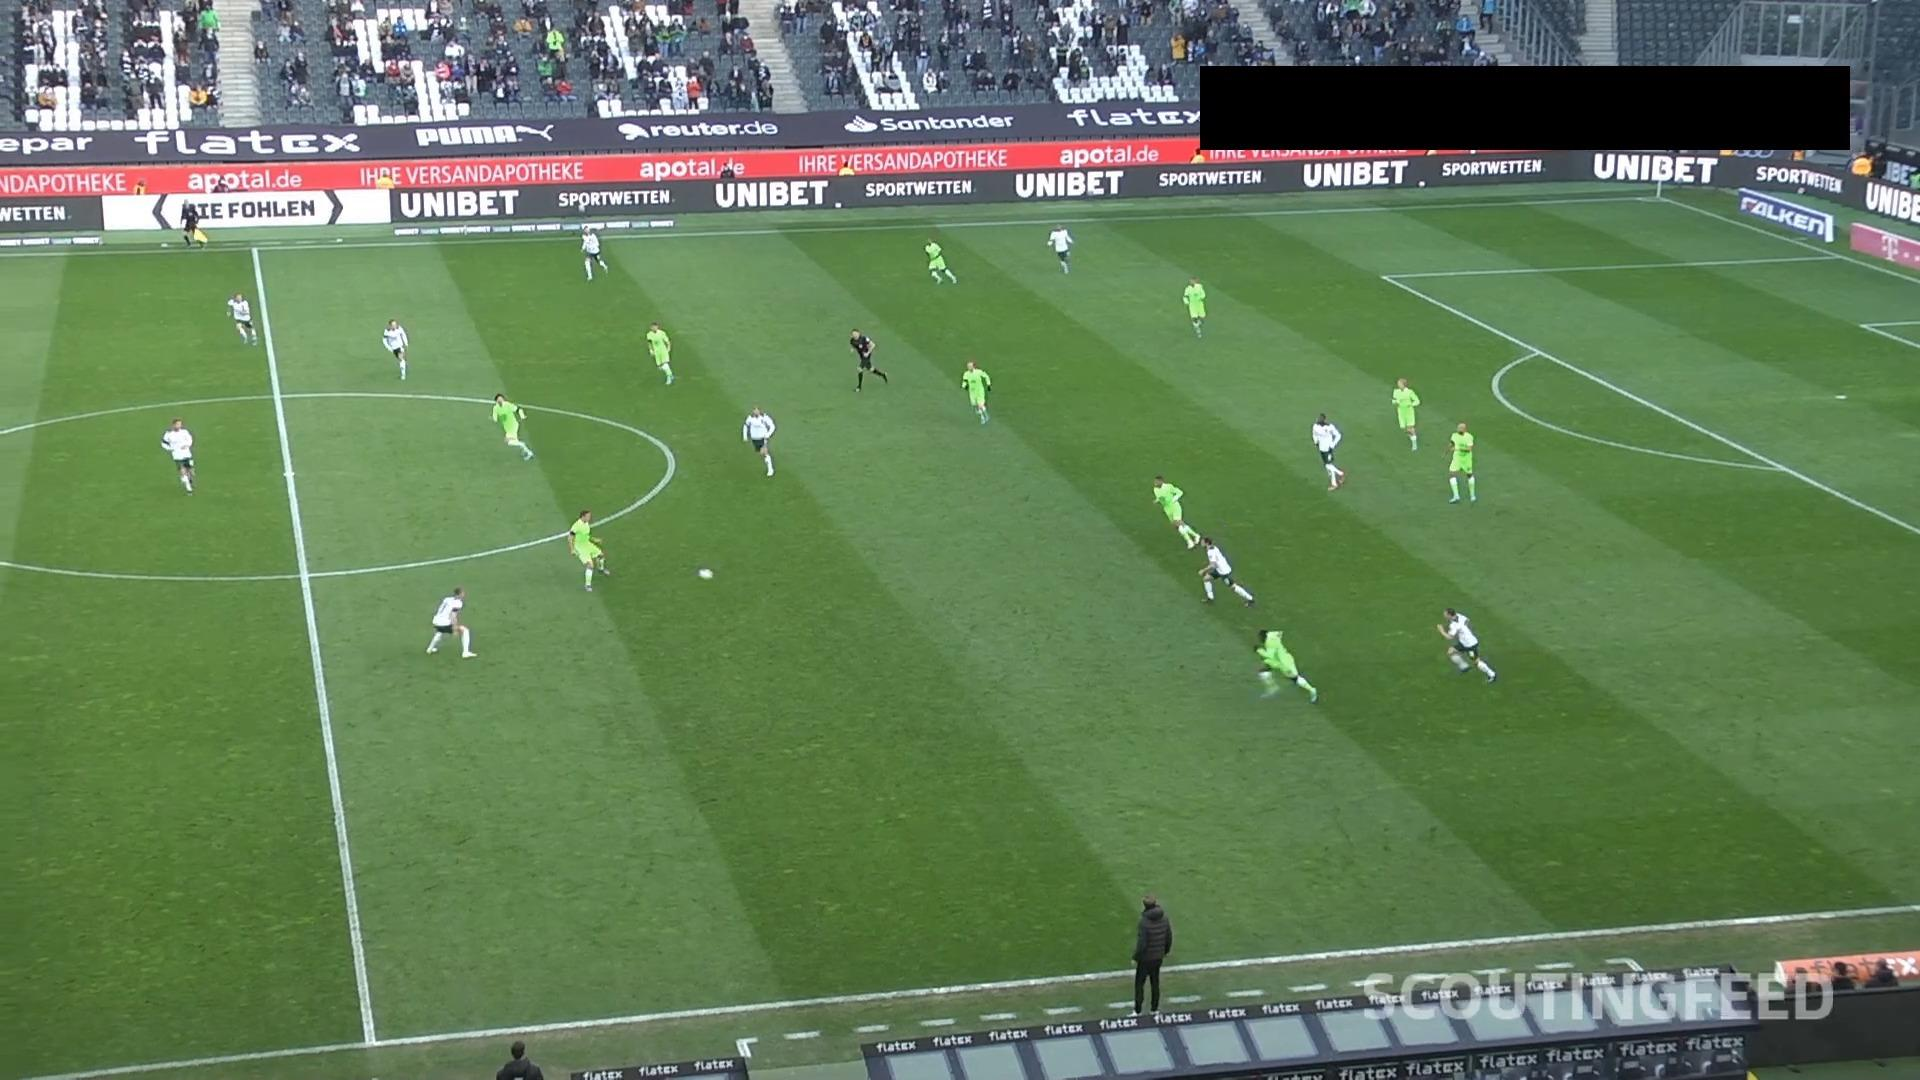ball: (696, 567, 716, 582)
